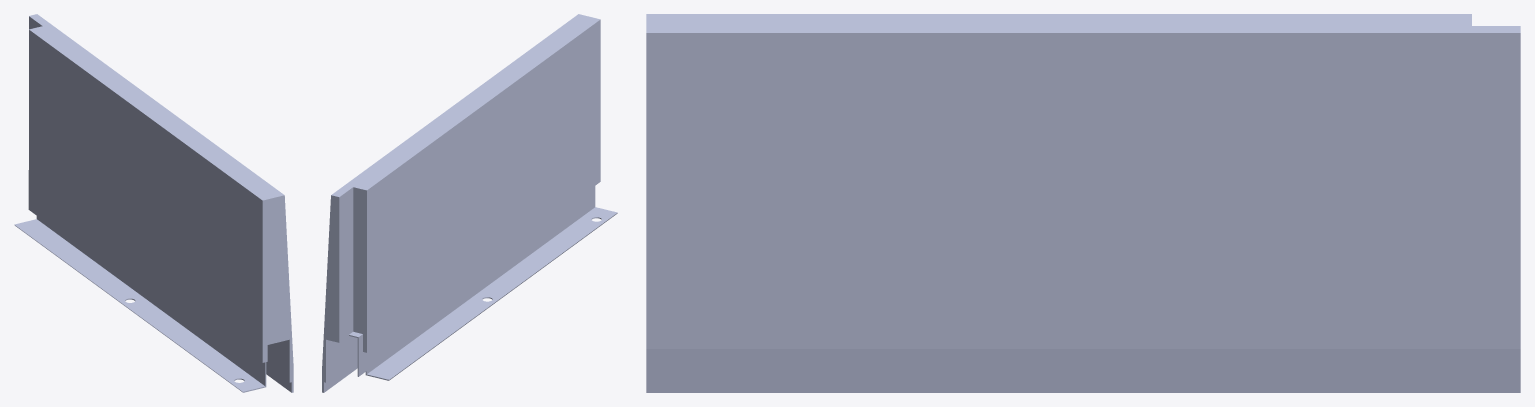
File: mv-kava-K300-m.glb
The picture shows the model from 3 angles, left to right: view 1: azimuth 30°, elevation 25°; view 2: azimuth 150°, elevation 25°; view 3: azimuth 270°, elevation 25°; orthographic projection. The views are drawn at different scales.
Visible parts, largest first — view 1: 43219255; view 2: 43219255; view 3: 43219255.
Part boxes in pixels (x1,y1,x2,y2): 43219255: [14, 14, 293, 392]; 43219255: [322, 14, 617, 392]; 43219255: [646, 14, 1520, 392].
Size of the model in its own units: 0.0335 by 0.129 by 0.2902.
